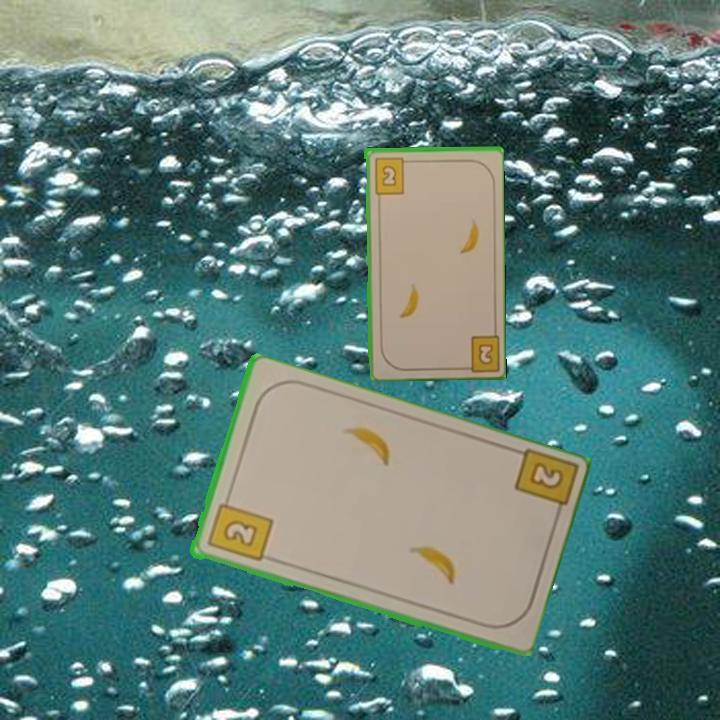2b: (203, 491, 275, 565), (510, 447, 577, 525), (456, 330, 500, 372), (371, 154, 412, 196)
